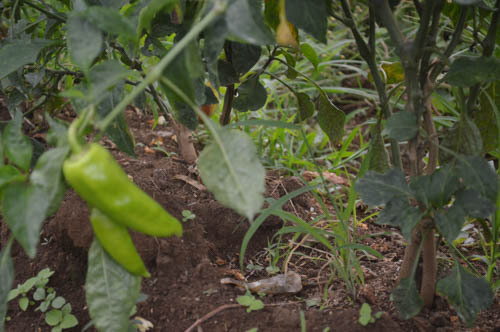ChiliPepper: (66, 145, 185, 238), (89, 209, 145, 276)
